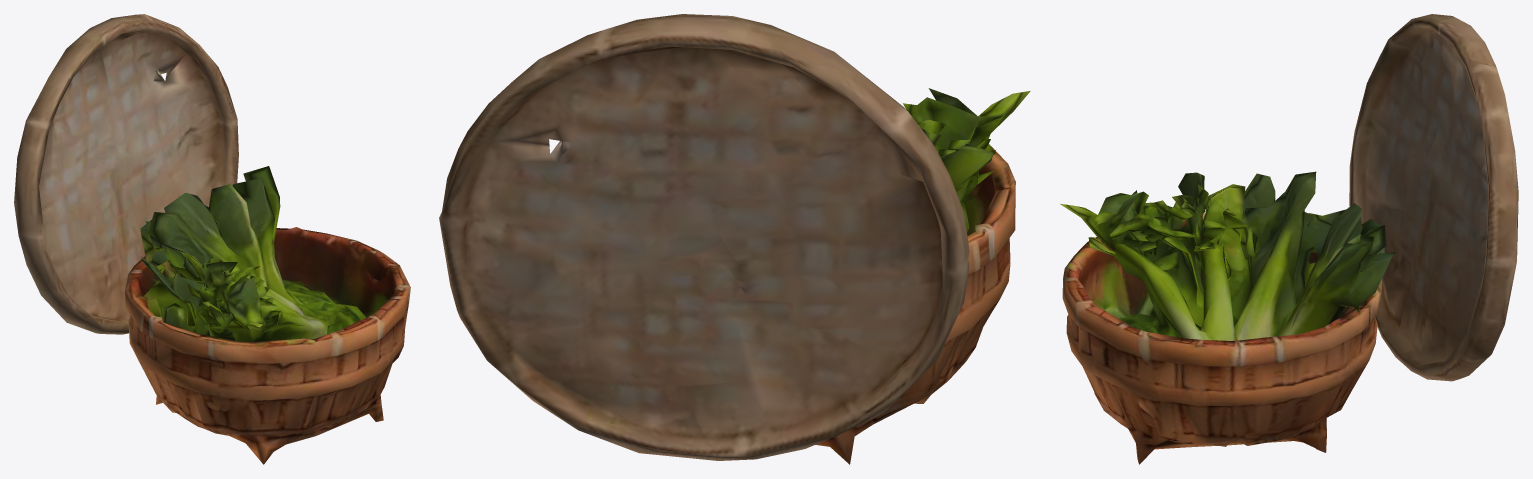
The model's file is zhukuang.glb.
3 views of the same model, side by side, from view 1: azimuth 30°, elevation 25°; view 2: azimuth 150°, elevation 25°; view 3: azimuth 270°, elevation 25° (orthographic). The views are drawn at different scales.
Visible parts, largest first — view 1: tripo_node_4288dca5-c023-4aff-b64c-c23cc9ad0fc1; view 2: tripo_node_4288dca5-c023-4aff-b64c-c23cc9ad0fc1; view 3: tripo_node_4288dca5-c023-4aff-b64c-c23cc9ad0fc1.
Boxes of the visible parts, x1,y1,x2,y2 form: tripo_node_4288dca5-c023-4aff-b64c-c23cc9ad0fc1: (14, 14, 410, 464); tripo_node_4288dca5-c023-4aff-b64c-c23cc9ad0fc1: (439, 14, 1030, 464); tripo_node_4288dca5-c023-4aff-b64c-c23cc9ad0fc1: (1060, 14, 1518, 464).
Size of the model in its own units: 0.9852 by 1 by 1.15.
Materials: 1 (1 with a texture image).
